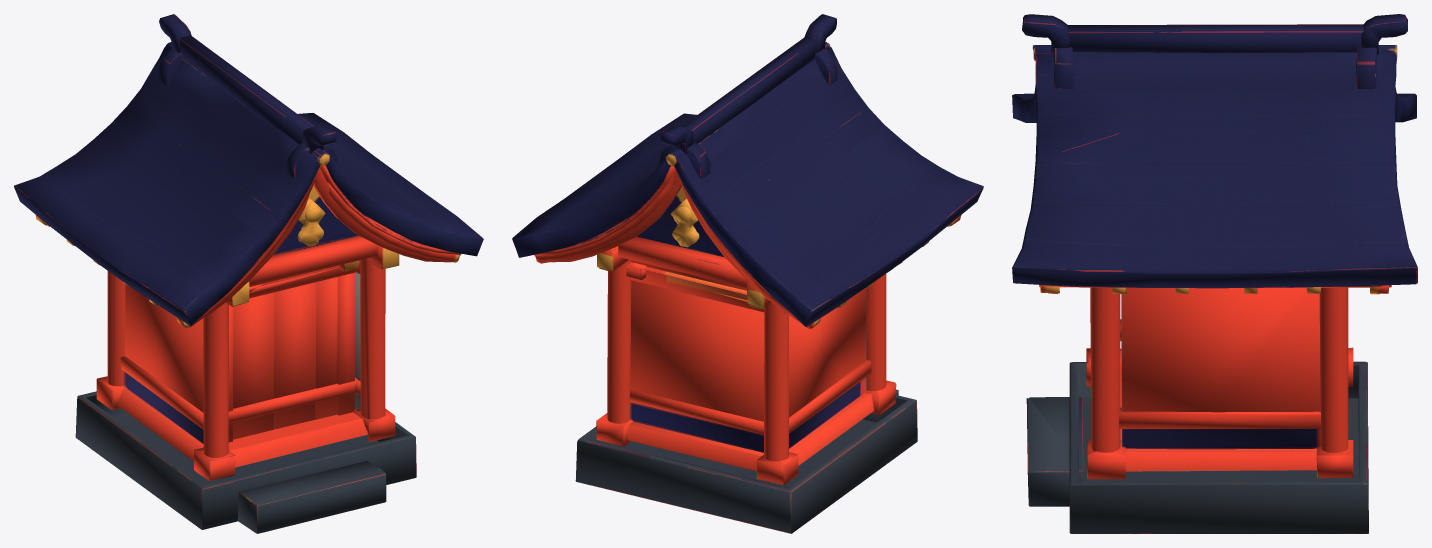
File: ornament_accent.glb
The picture shows the model from 3 angles, left to right: view 1: azimuth 30°, elevation 25°; view 2: azimuth 150°, elevation 25°; view 3: azimuth 270°, elevation 25°; orthographic projection. The views are drawn at different scales.
Bounding box in the file's own units: 0.8418 × 1 × 0.8105.
Materials: 1 (1 with a texture image).
